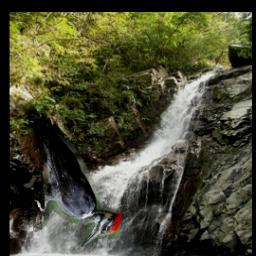Woodpecker: (34, 128, 122, 248)
